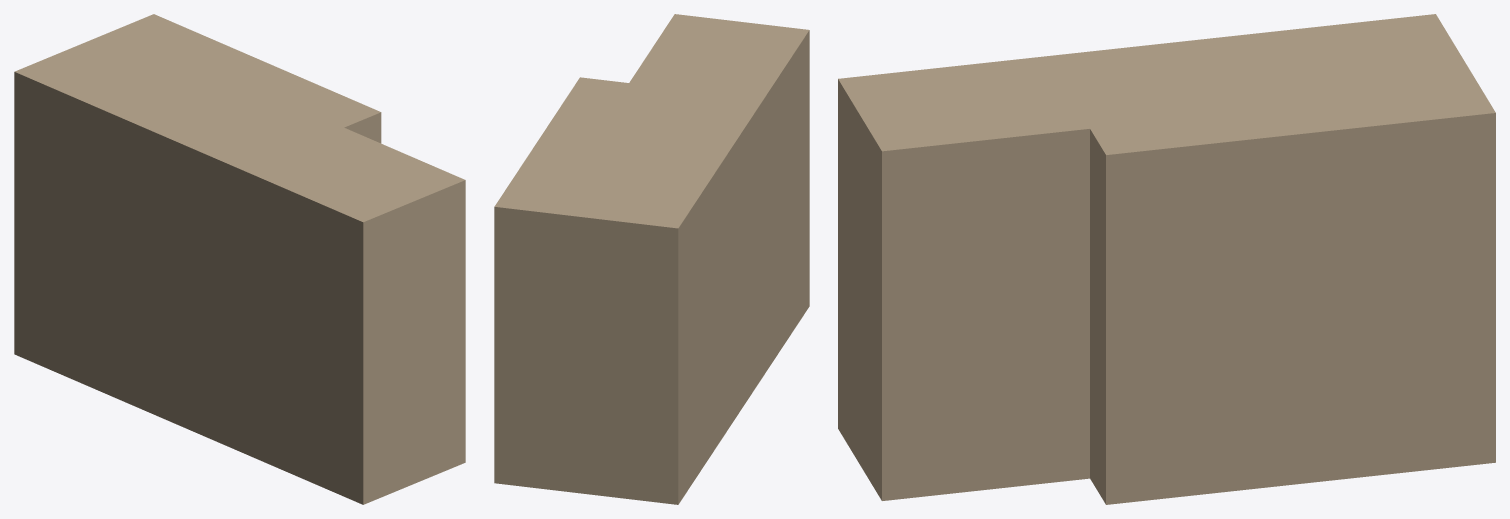
The model's file is bld_107625424.dae.
3 renders of one model, left to right at view 1: azimuth 30°, elevation 25°; view 2: azimuth 150°, elevation 25°; view 3: azimuth 270°, elevation 25°, orthographic. The views are drawn at different scales.
Parts seen in each view (by area): view 1: bld_107625424; view 2: bld_107625424; view 3: bld_107625424.
Part boxes in pixels (x1,y1,x2,y2): bld_107625424: [14, 14, 465, 504]; bld_107625424: [494, 14, 809, 504]; bld_107625424: [838, 14, 1495, 504].
Bounding box in the file's own units: 6.92 × 13.64 × 8.
